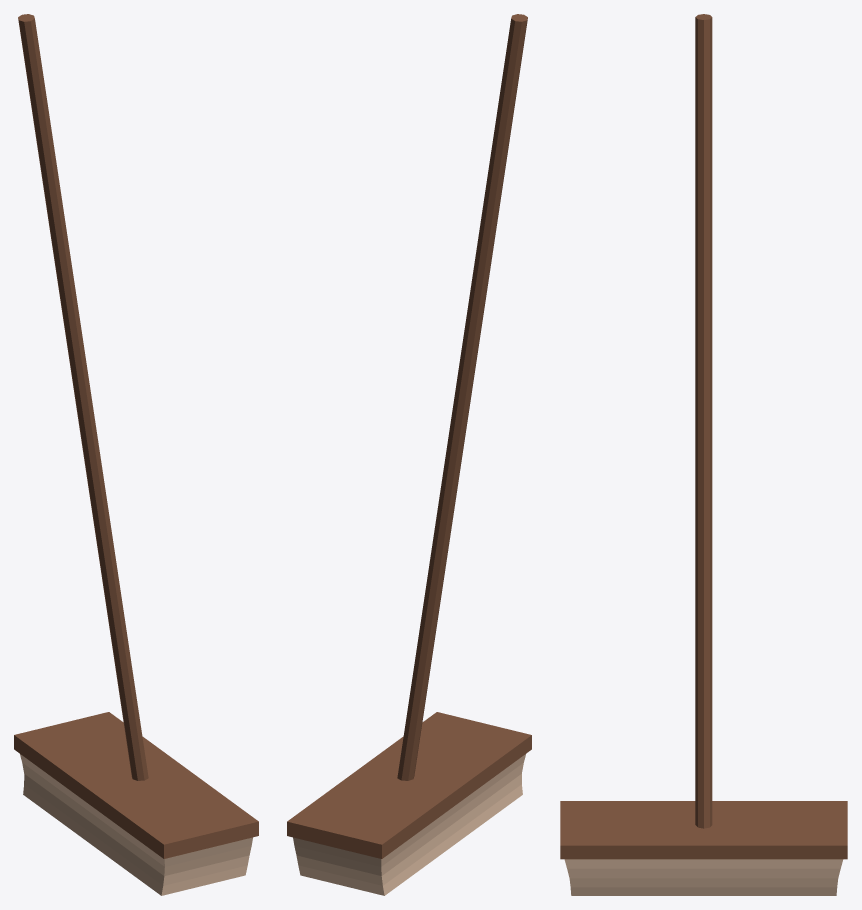
The model's file is Broom.fbx.
3 views of the same model, side by side, from view 1: azimuth 30°, elevation 25°; view 2: azimuth 150°, elevation 25°; view 3: azimuth 270°, elevation 25° (orthographic). The views are drawn at different scales.
Parts seen in each view (by area): view 1: Brush; view 2: Brush; view 3: Brush.
Boxes of the visible parts, x1,y1,x2,y2 form: Brush: (14, 14, 258, 895); Brush: (287, 14, 531, 895); Brush: (560, 14, 847, 895).
Size of the model in its own units: 23.06 by 113 by 36.25.
Materials: 1 (1 with a texture image).
